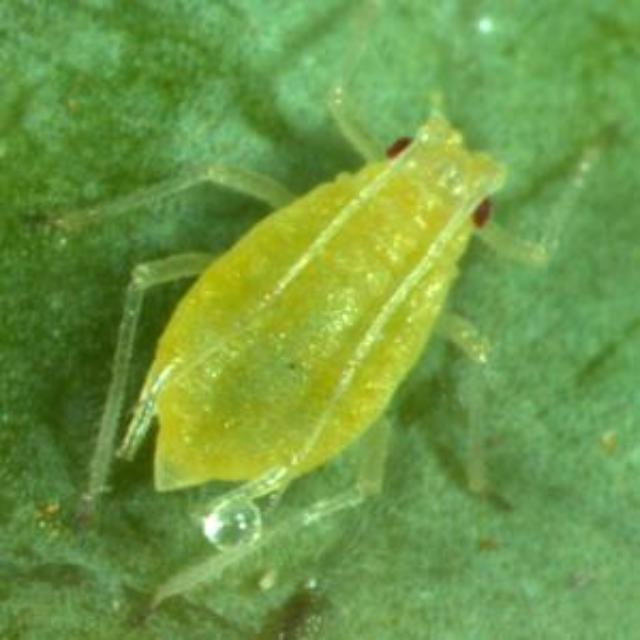Green peach aphid: (47, 37, 593, 583)
